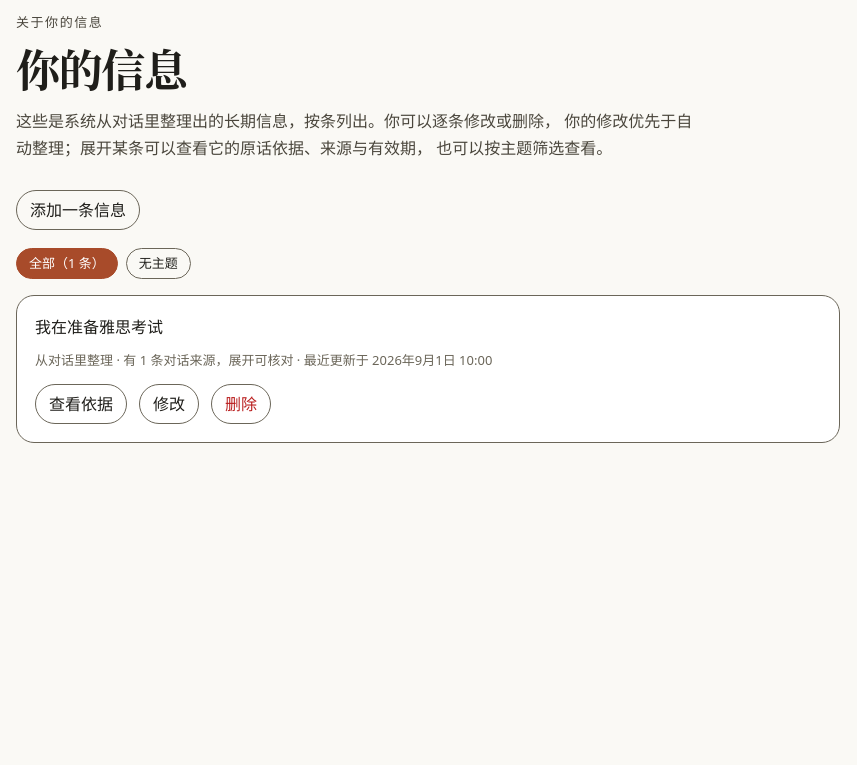
Test: AtomicProfileCenter › 重新展开后忽略较早请求返回的已删除原话
The image size is (857, 765).
Click the button "查看依据". click: click(81, 404)
box: [35,384,127,424]
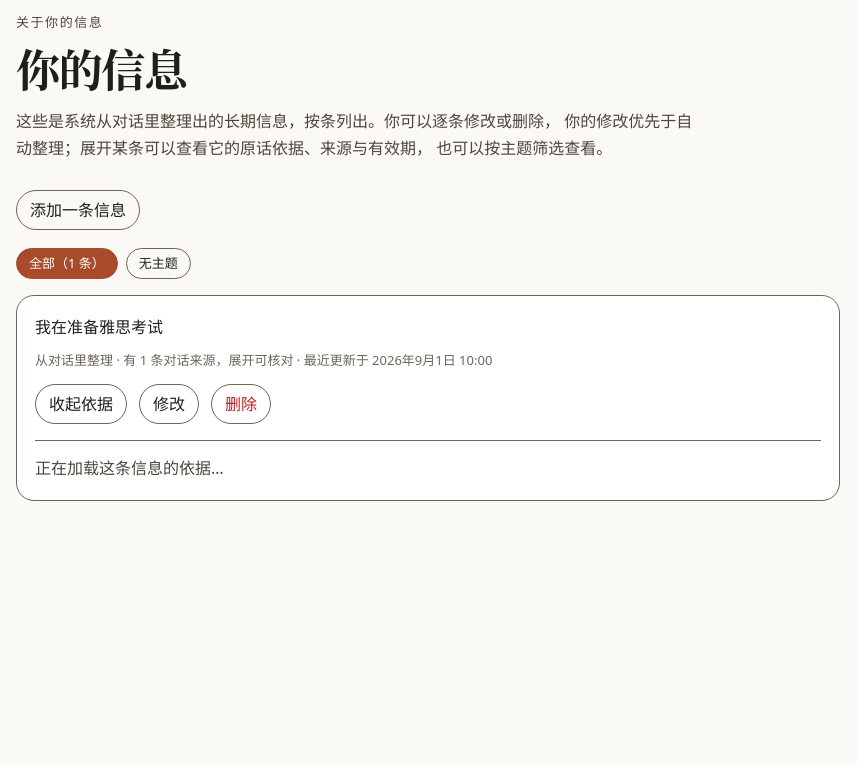
Click the button "收起依据". click: click(81, 404)
box: [35,384,127,424]
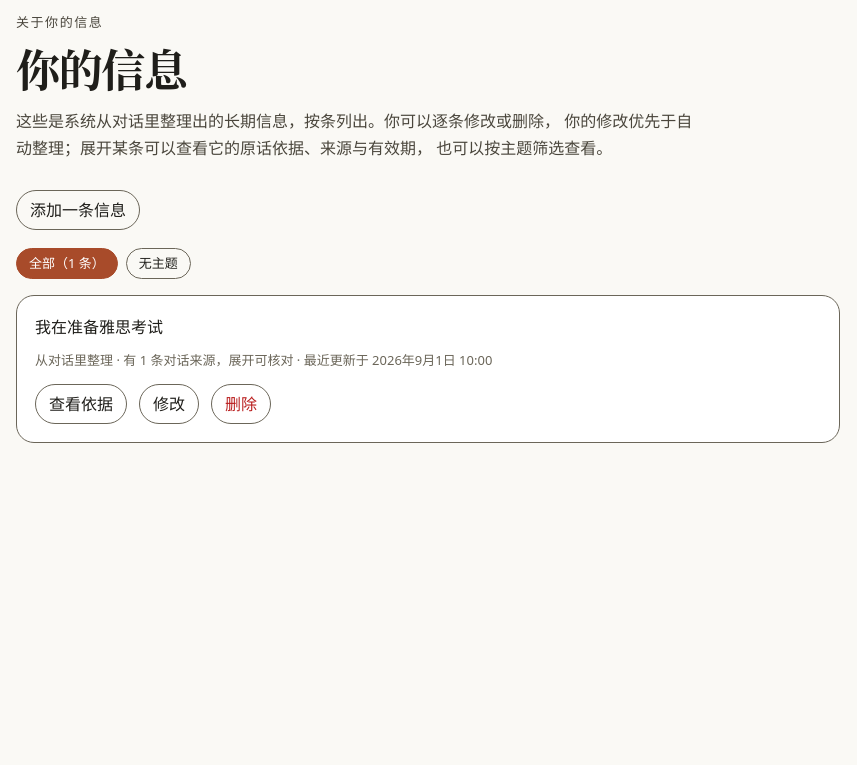
Click the button "查看依据". click: click(81, 404)
box: [35,384,127,424]
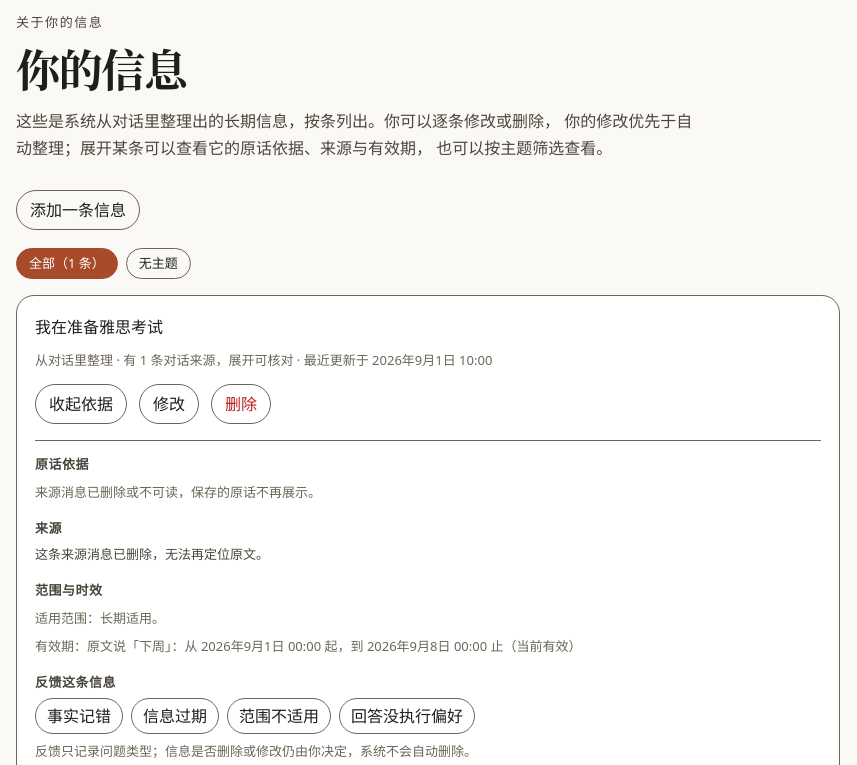
Expected: the text "来源消息已删除或不可读，保存的原话不再展示。" is shown, [35,483,321,501]
Expected: the element with test id "atomic-evidence" shows "已删除", [35,440,821,762]
